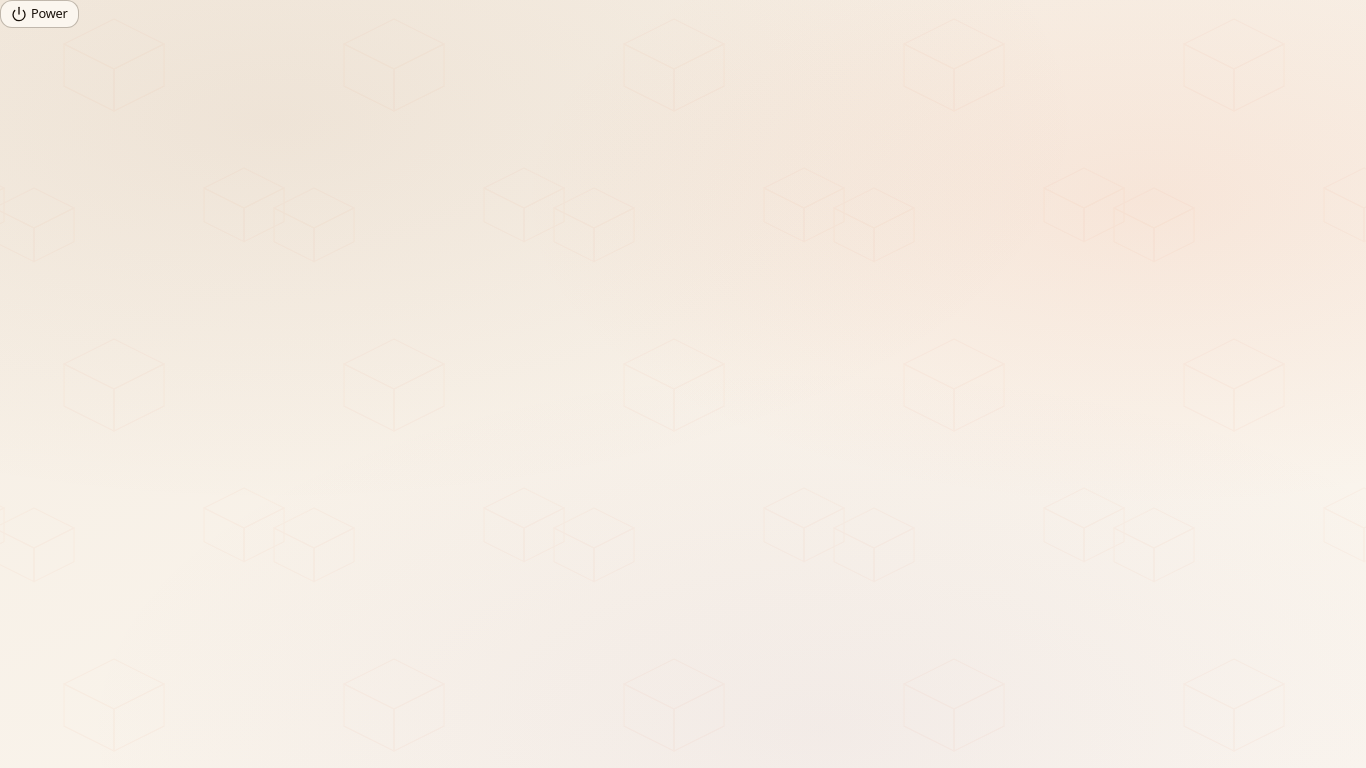
Test: PowerMenu › lists every action, with the reason beside the ones that cannot run
The width and height of the screenshot is (1366, 768).
Click the button with aria-label "Power: wk-02" at (39, 14), box [0, 0, 79, 28]
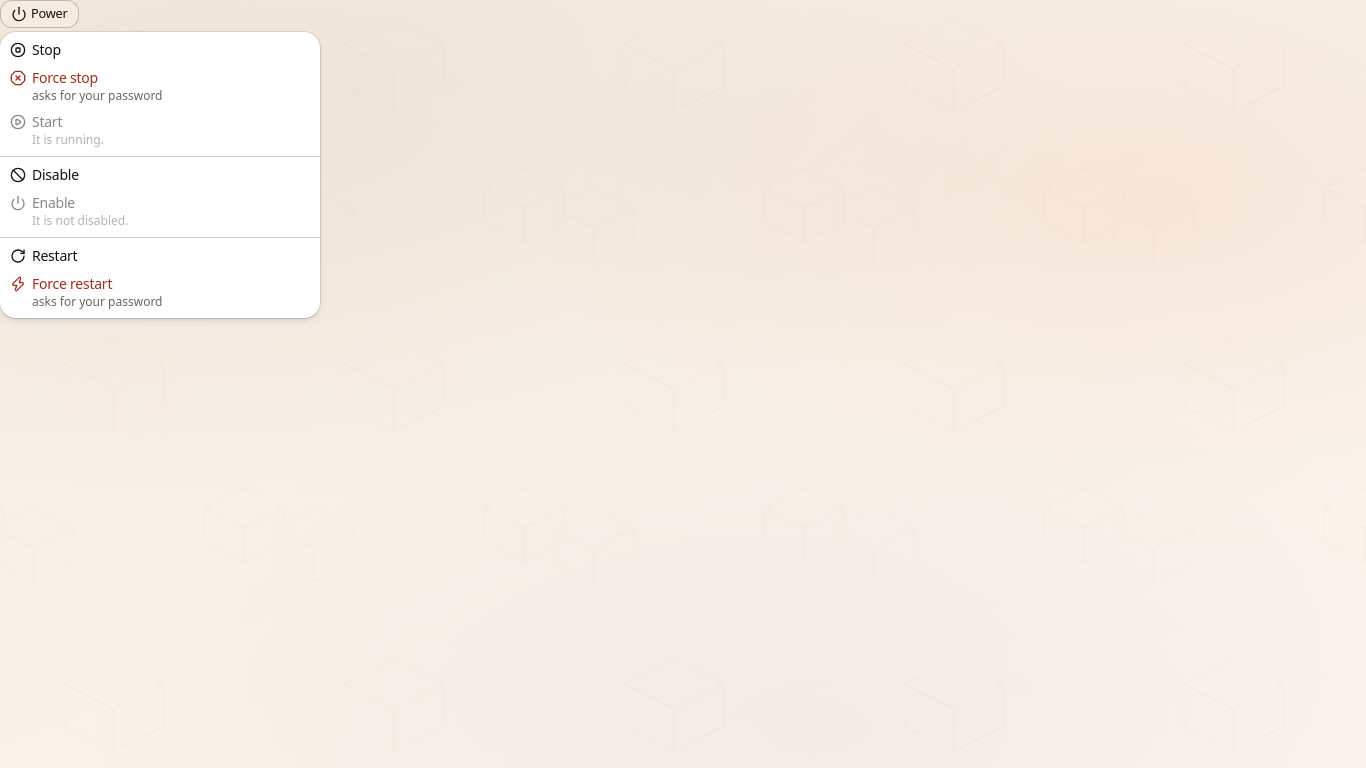
Result: the text "Stop" is shown at [32, 40, 61, 60]
Result: the text "Force stop" is shown at [32, 68, 98, 87]
Result: the text "Start" is shown at [32, 112, 62, 131]
